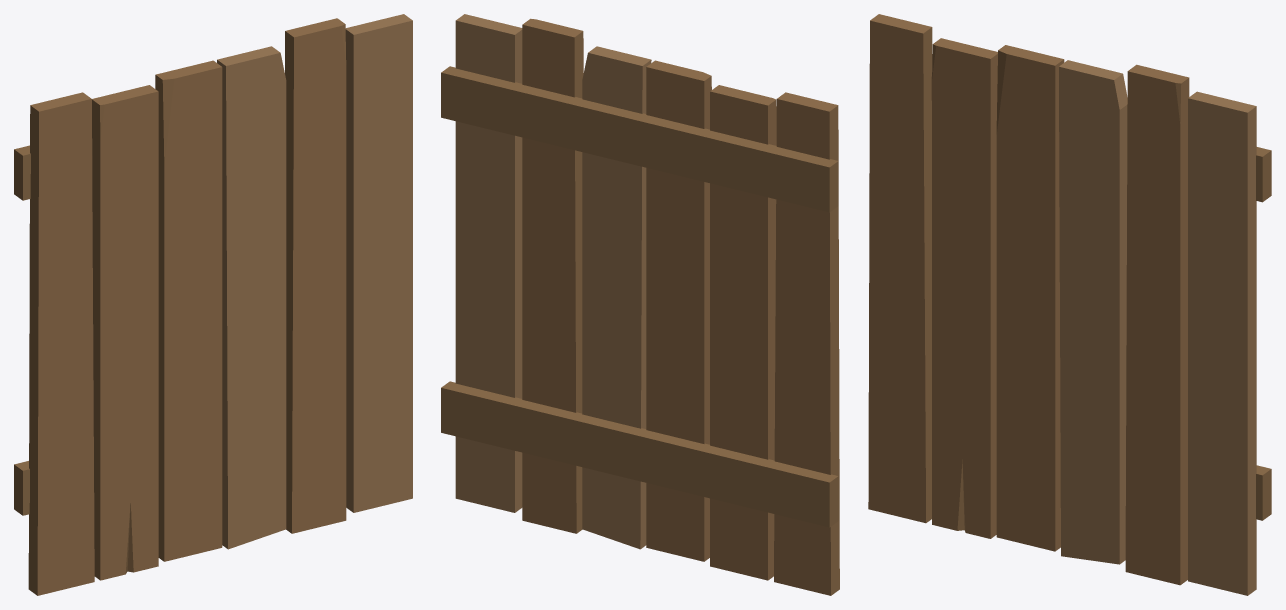
File: Fence_02.fbx
3 renders of one model, left to right at view 1: azimuth 30°, elevation 25°; view 2: azimuth 150°, elevation 25°; view 3: azimuth 330°, elevation 25°, orthographic.
Visible parts, largest first — view 1: Fence_02; view 2: Fence_02; view 3: Fence_02.
Boxes of the visible parts, x1,y1,x2,y2 form: Fence_02: (14, 14, 412, 595); Fence_02: (441, 14, 839, 595); Fence_02: (868, 14, 1271, 595).
Size of the model in its own units: 102 by 124 by 7.66.
